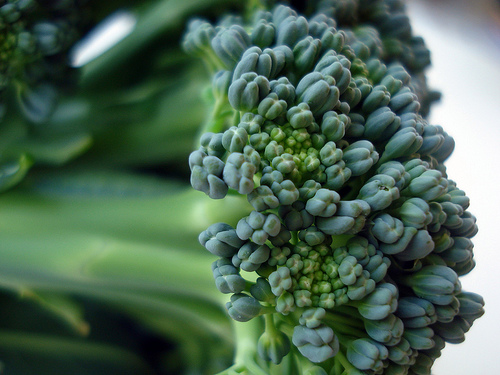broccoli: (188, 4, 486, 374)
